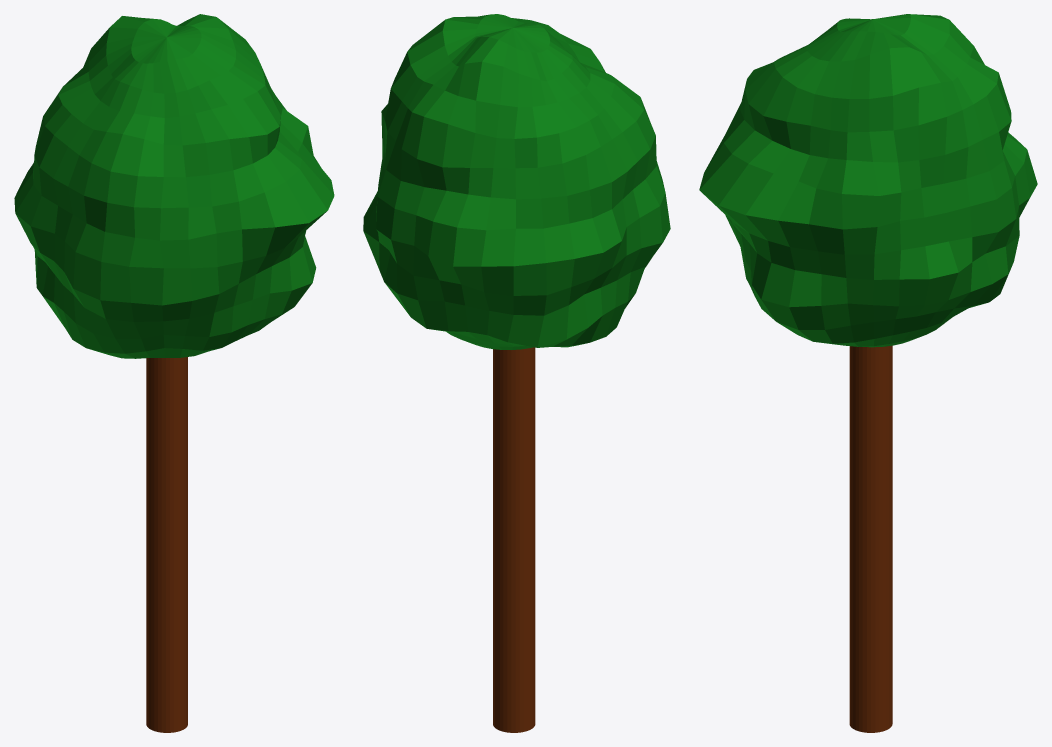
File: дерев.glb
3 renders of one model, left to right at view 1: azimuth 30°, elevation 25°; view 2: azimuth 150°, elevation 25°; view 3: azimuth 270°, elevation 25°, orthographic. The views are drawn at different scales.
Parts seen in each view (by area): view 1: Сфера, Циліндр; view 2: Сфера, Циліндр; view 3: Сфера, Циліндр.
Boxes of the visible parts, left/top/right/bottom form: Сфера: left=14, top=14, right=334, bottom=358; Циліндр: left=146, top=357, right=187, bottom=732; Сфера: left=363, top=14, right=670, bottom=349; Циліндр: left=493, top=347, right=535, bottom=732; Сфера: left=699, top=14, right=1037, bottom=347; Циліндр: left=849, top=345, right=892, bottom=732.
Size of the model in its own units: 6.38 by 16.55 by 7.17.
